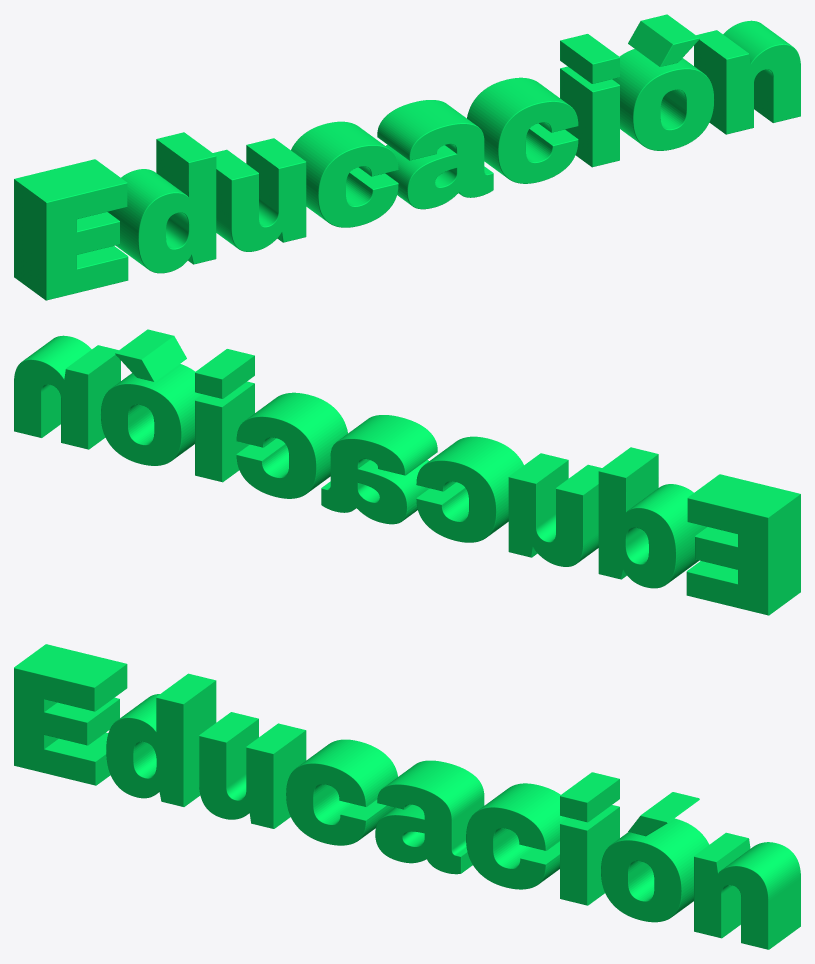
The model's file is Ejemplo.gltf.
3 renders of one model, top to bottom at view 1: azimuth 30°, elevation 25°; view 2: azimuth 150°, elevation 25°; view 3: azimuth 330°, elevation 25°, orthographic.
Bounding box in the file's own units: 428 × 56.92 × 32.
